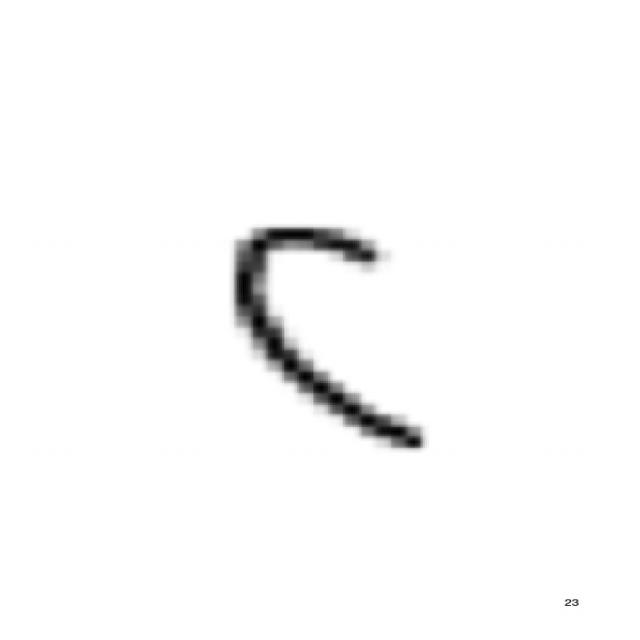2 -two-: (213, 213, 447, 467)
